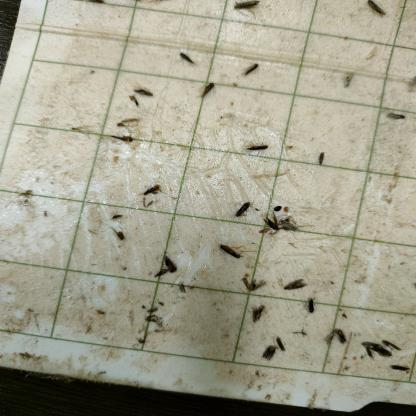prays_oleae: (258, 206, 302, 244), (236, 52, 267, 92), (124, 80, 158, 115), (211, 235, 247, 268), (361, 332, 391, 368), (236, 128, 269, 158), (158, 251, 186, 286), (384, 107, 414, 138), (256, 338, 292, 362), (136, 185, 168, 210), (228, 192, 252, 225), (243, 268, 268, 298), (278, 272, 308, 294), (173, 43, 196, 70), (233, 0, 262, 18), (248, 298, 268, 324), (366, 0, 386, 24), (326, 326, 353, 343), (303, 293, 318, 320), (201, 78, 217, 100)
